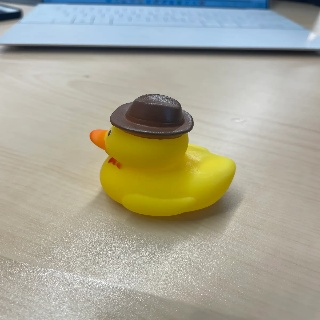duck_specialty: (89, 91, 236, 218)
